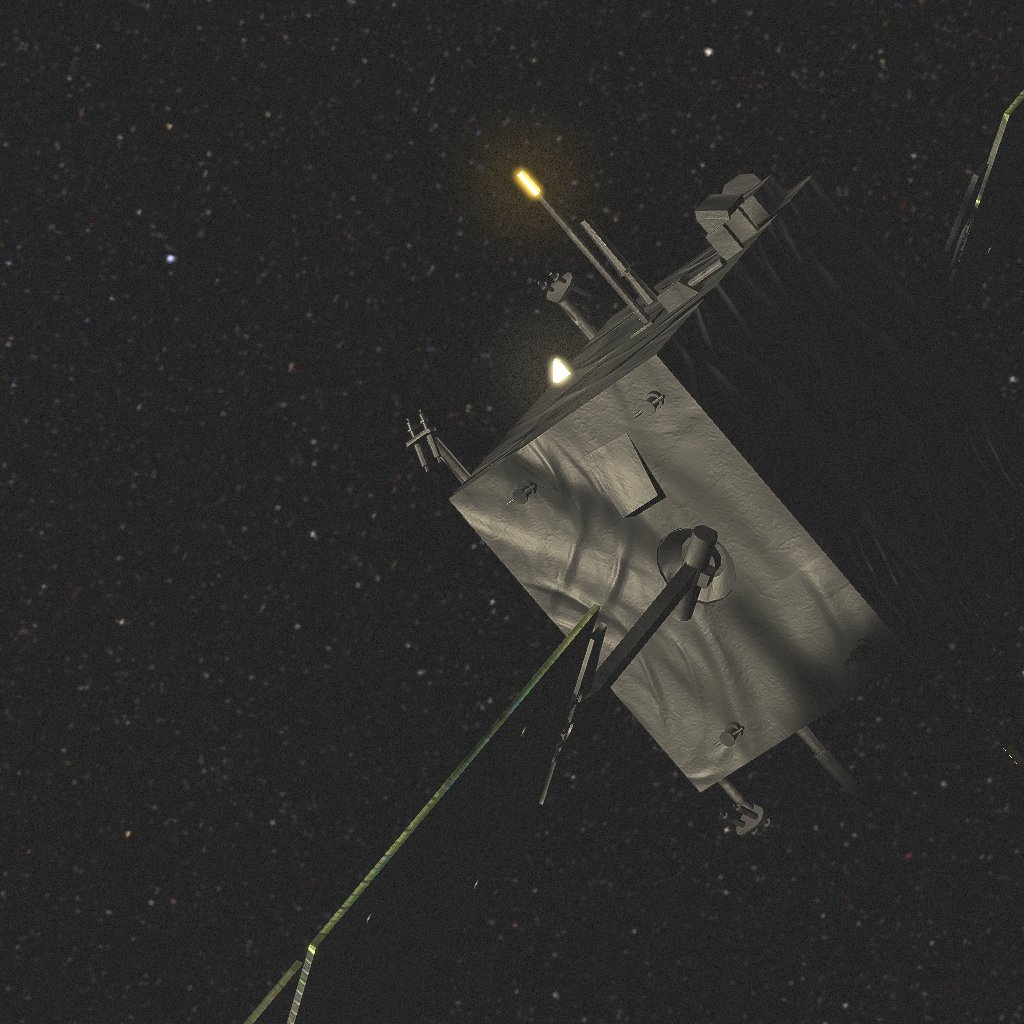smart_1: (243, 90, 1024, 1024)
